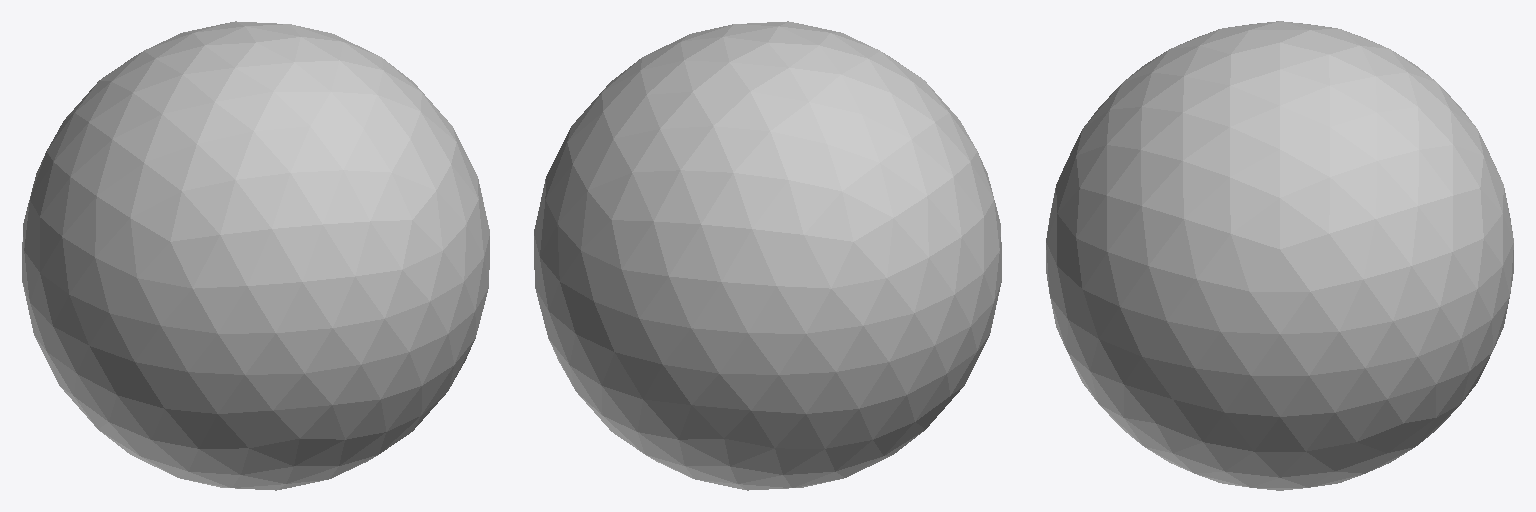
Rendered from neptune.obj.
3 views of the same model, side by side, from view 1: azimuth 30°, elevation 25°; view 2: azimuth 150°, elevation 25°; view 3: azimuth 270°, elevation 25° (orthographic).
Parts seen in each view (by area): view 1: GeoSphere004; view 2: GeoSphere004; view 3: GeoSphere004.
Part boxes in pixels (left/top/right/bottom): GeoSphere004: left=22, top=21, right=489, bottom=490; GeoSphere004: left=534, top=21, right=1001, bottom=490; GeoSphere004: left=1046, top=21, right=1513, bottom=490.
Size of the model in its own units: 11087 by 11140 by 11072.